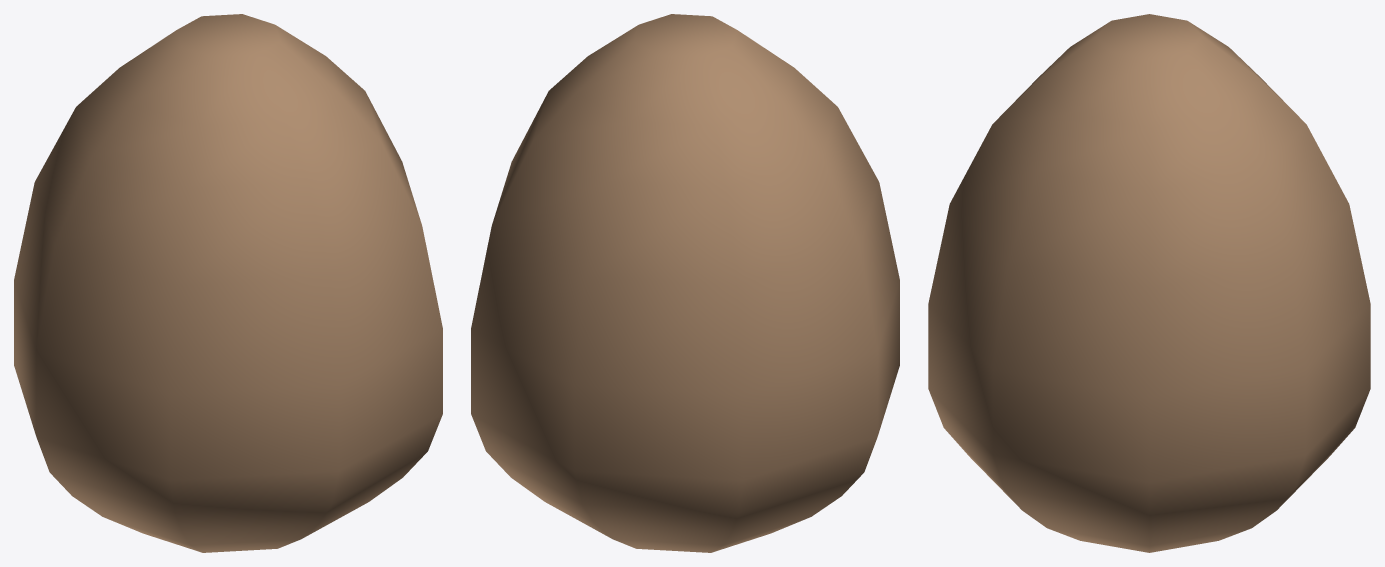
Rendered from ovo.fbx.
3 views of the same model, side by side, from view 1: azimuth 30°, elevation 25°; view 2: azimuth 150°, elevation 25°; view 3: azimuth 270°, elevation 25° (orthographic).
Visible parts, largest first — view 1: Ovo; view 2: Ovo; view 3: Ovo.
Boxes of the visible parts, x1,y1,x2,y2 form: Ovo: [14, 14, 442, 552]; Ovo: [471, 14, 899, 552]; Ovo: [928, 14, 1370, 552].
Size of the model in its own units: 200 by 237 by 200.
